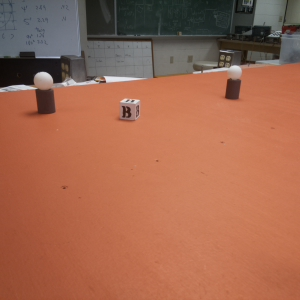blockB: (119, 97, 142, 121)
obstacle: (32, 71, 58, 115), (225, 65, 243, 100)
